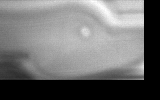cell: (76, 22, 94, 41)
